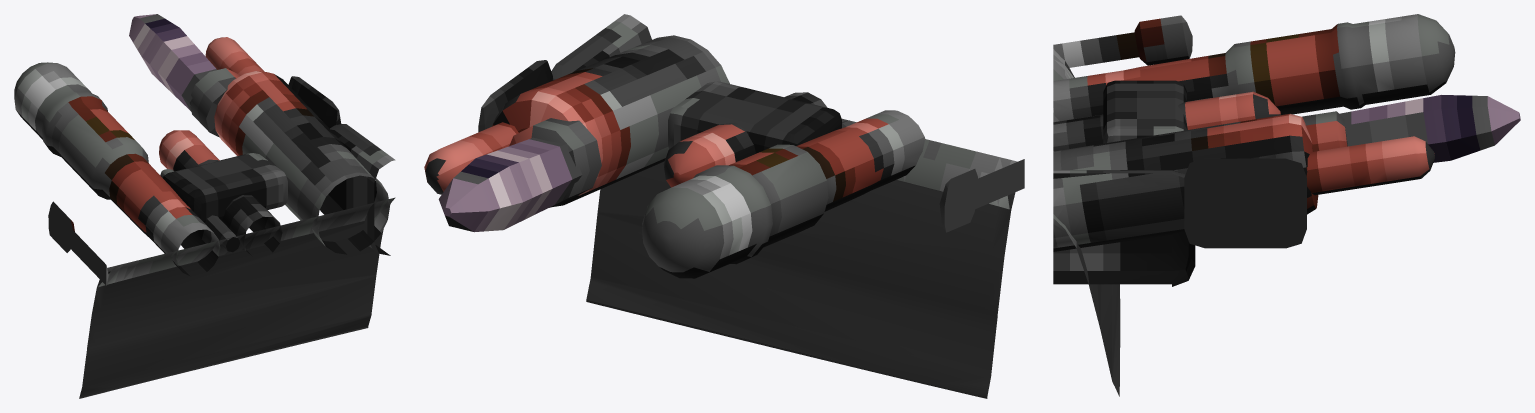
Rendered from deli_tower_15.glb.
3 renders of one model, left to right at view 1: azimuth 30°, elevation 25°; view 2: azimuth 150°, elevation 25°; view 3: azimuth 270°, elevation 25°, orthographic. The views are drawn at different scales.
Parts seen in each view (by area): view 1: deli_tower_15_hull, deli_tower_15_s1, deli_tower_15_s2, deli_tower_15_s_cross, deli_tower_15_s2_crystal, deli_tower_15_s3, deli_tower_15_s4_low, deli_tower_15_s2_collar, deli_tower_15_s5, deli_tower_15_s2_rail, deli_tower_15_s4_high, deli_tower_15_s3_rod; view 2: deli_tower_15_hull, deli_tower_15_s1, deli_tower_15_s2, deli_tower_15_s2_crystal, deli_tower_15_s_cross, deli_tower_15_s3, deli_tower_15_s5, deli_tower_15_s2_collar, deli_tower_15_s2_rail, deli_tower_15_s4_low, deli_tower_15_s4_high; view 3: deli_tower_15_s1, deli_tower_15_s2, deli_tower_15_s4_high, deli_tower_15_s2_crystal, deli_tower_15_s4_low, deli_tower_15_s2_rail, deli_tower_15_s_cross, deli_tower_15_s5, deli_tower_15_s3, deli_tower_15_hull, deli_tower_15_s2_collar.
Part boxes in pixels (left/top/right/bottom): deli_tower_15_hull: left=79, top=197, right=395, bottom=398; deli_tower_15_s1: left=14, top=62, right=220, bottom=275; deli_tower_15_s2: left=214, top=71, right=389, bottom=254; deli_tower_15_s_cross: left=163, top=153, right=287, bottom=222; deli_tower_15_s2_crystal: left=129, top=14, right=216, bottom=111; deli_tower_15_s3: left=159, top=130, right=282, bottom=255; deli_tower_15_s4_low: left=328, top=124, right=395, bottom=255; deli_tower_15_s2_collar: left=190, top=68, right=239, bottom=137; deli_tower_15_s5: left=48, top=201, right=108, bottom=285; deli_tower_15_s2_rail: left=205, top=37, right=264, bottom=75; deli_tower_15_s4_high: left=288, top=76, right=341, bottom=128; deli_tower_15_s3_rod: left=160, top=169, right=239, bottom=252; deli_tower_15_hull: left=586, top=118, right=1017, bottom=398; deli_tower_15_s1: left=642, top=110, right=925, bottom=278; deli_tower_15_s2: left=492, top=35, right=729, bottom=207; deli_tower_15_s2_crystal: left=438, top=137, right=582, bottom=232; deli_tower_15_s_cross: left=668, top=81, right=841, bottom=153; deli_tower_15_s3: left=663, top=92, right=827, bottom=187; deli_tower_15_s5: left=939, top=159, right=1024, bottom=232; deli_tower_15_s2_collar: left=509, top=118, right=601, bottom=207; deli_tower_15_s2_rail: left=424, top=122, right=518, bottom=194; deli_tower_15_s4_low: left=551, top=14, right=651, bottom=80; deli_tower_15_s4_high: left=478, top=60, right=552, bottom=132; deli_tower_15_s1: left=1053, top=14, right=1455, bottom=120; deli_tower_15_s2: left=1053, top=114, right=1318, bottom=251; deli_tower_15_s4_high: left=1184, top=158, right=1306, bottom=248; deli_tower_15_s2_crystal: left=1339, top=95, right=1520, bottom=162; deli_tower_15_s4_low: left=1053, top=170, right=1195, bottom=286; deli_tower_15_s2_rail: left=1306, top=136, right=1434, bottom=195; deli_tower_15_s_cross: left=1103, top=80, right=1186, bottom=143; deli_tower_15_s5: left=1053, top=15, right=1192, bottom=67; deli_tower_15_s3: left=1053, top=91, right=1280, bottom=151; deli_tower_15_hull: left=1053, top=49, right=1120, bottom=396; deli_tower_15_s2_collar: left=1302, top=111, right=1347, bottom=151.
Size of the model in its own units: 23.98 by 17.53 by 27.93.
